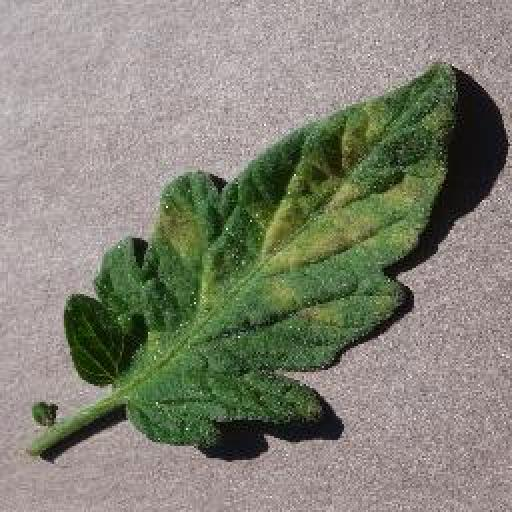Leaf Mold: (66, 57, 461, 451)
